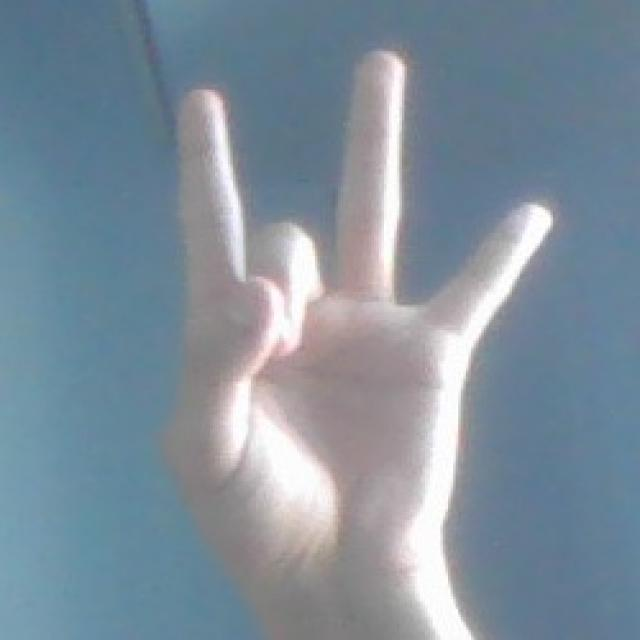Numeric-8: (172, 41, 564, 566), (596, 506, 596, 507)
